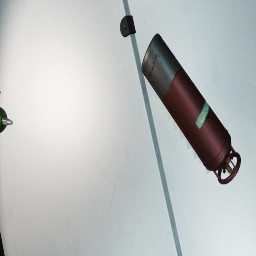0: (0, 107, 13, 133)
NitrogenTank ,: (141, 34, 241, 184)
